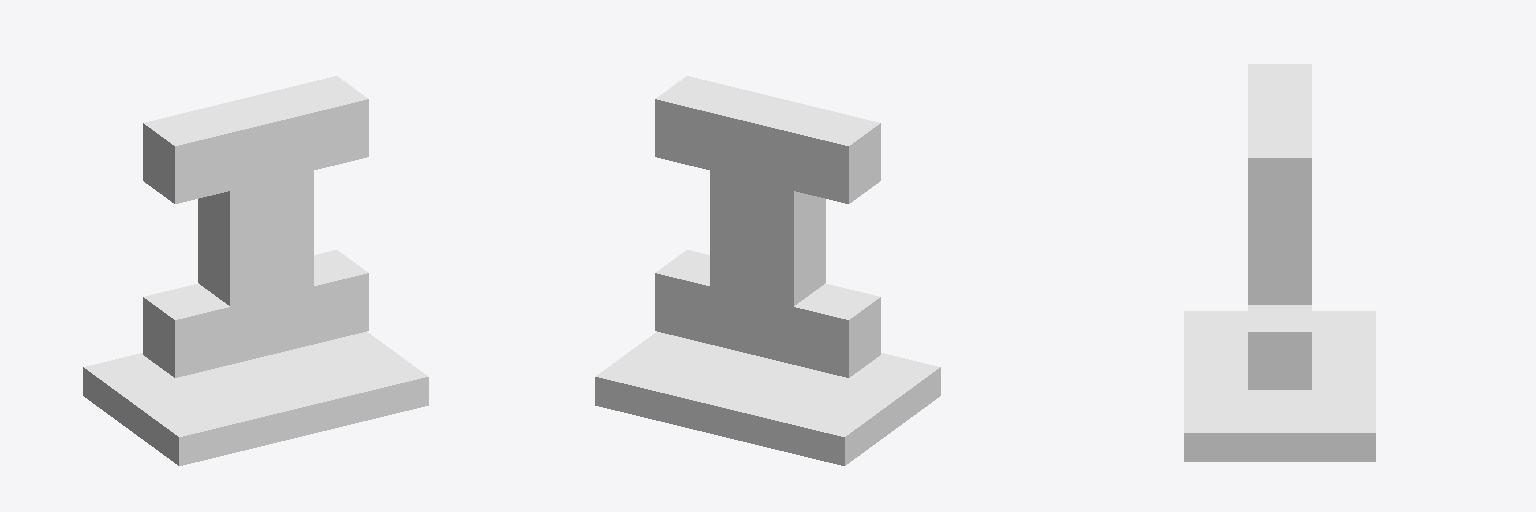
The model's file is toy-store-5-i.obj.
The picture shows the model from 3 angles: view 1: azimuth 30°, elevation 25°; view 2: azimuth 150°, elevation 25°; view 3: azimuth 270°, elevation 25°; orthographic projection.
Parts seen in each view (by area): view 1: i; view 2: i; view 3: i.
Boxes of the visible parts, x1=… form: i: x1=83, y1=76, x2=428, y2=465; i: x1=595, y1=76, x2=940, y2=465; i: x1=1184, y1=64, x2=1375, y2=461.
Bounding box in the file's own units: 0.9 × 1 × 0.6.